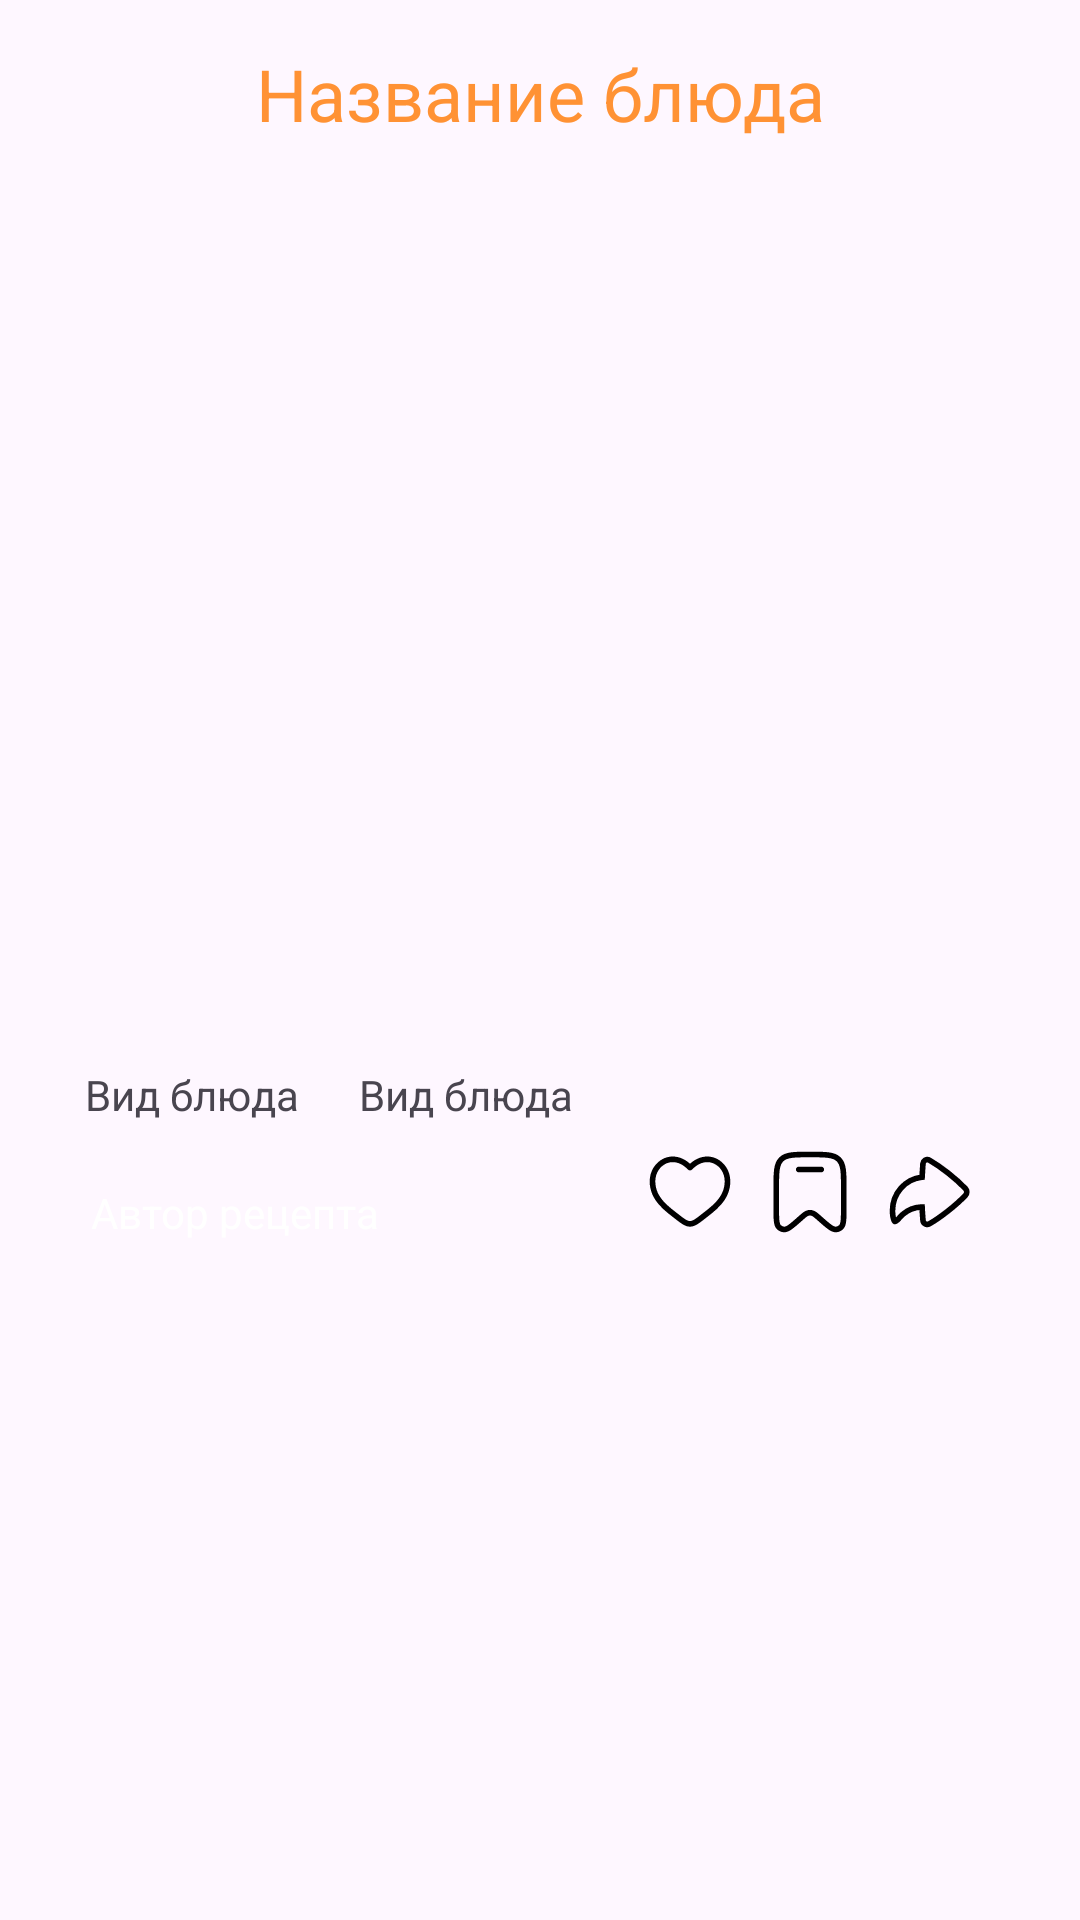

Icons on this 1080 × 1920 Android screen, each with the point to tap as point (x, y):
bookmark recipe: point (810, 1192)
heart resipe: point (690, 1191)
share recipe: point (929, 1192)
